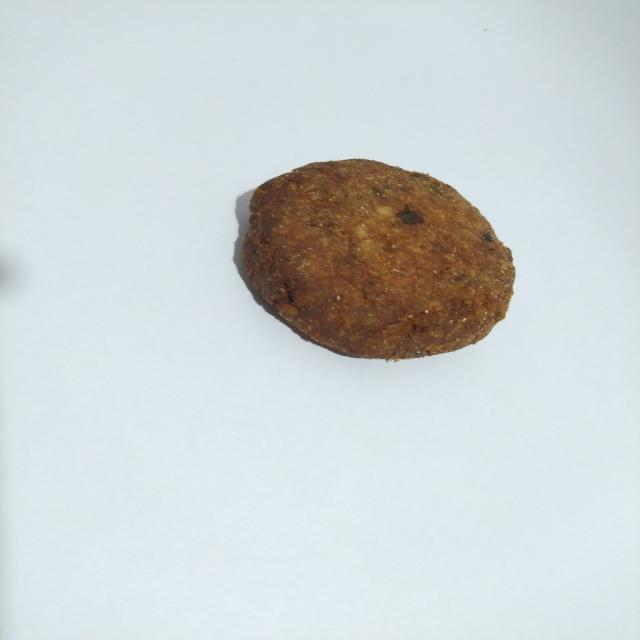Pajagua: (226, 146, 529, 370)
